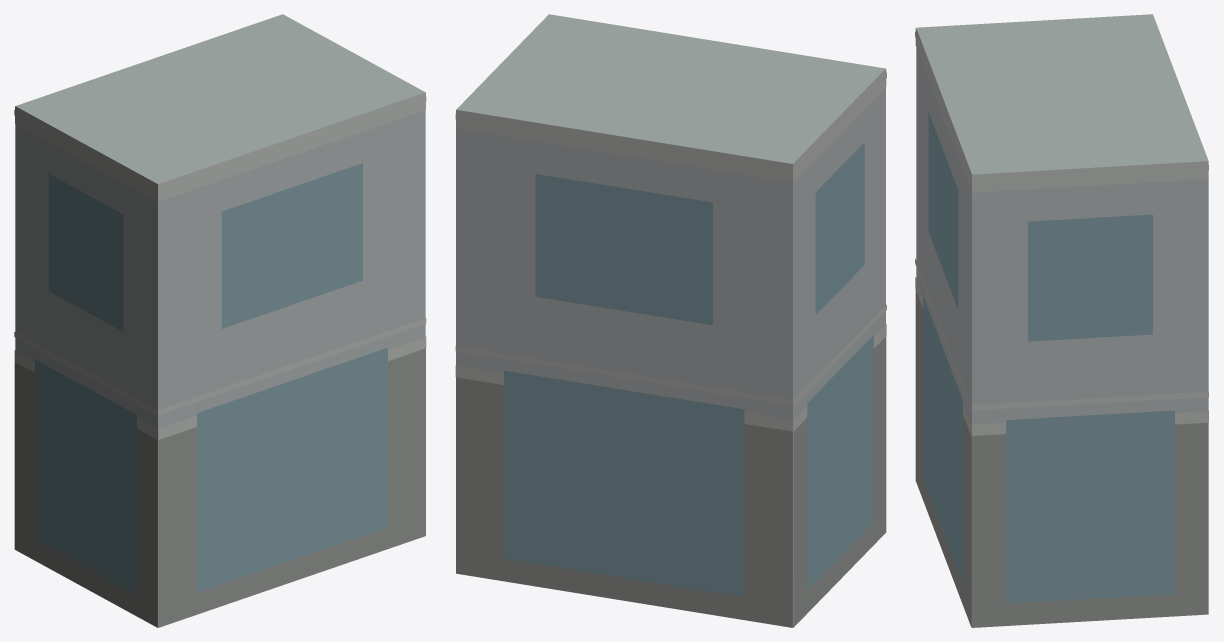
The model's file is survey-upis-32999692.glb.
3 renders of one model, left to right at view 1: azimuth 30°, elevation 25°; view 2: azimuth 150°, elevation 25°; view 3: azimuth 270°, elevation 25°, orthographic. The views are drawn at different scales.
Visible parts, largest first — view 1: survey-upis-32999692.tmp; view 2: survey-upis-32999692.tmp; view 3: survey-upis-32999692.tmp.
Part boxes in pixels (box(x1,y1,x2,y2)): survey-upis-32999692.tmp: box(14, 14, 426, 627); survey-upis-32999692.tmp: box(455, 14, 886, 627); survey-upis-32999692.tmp: box(915, 14, 1208, 627).
Bounding box in the file's own units: 4.66 × 6.1 × 3.6.
